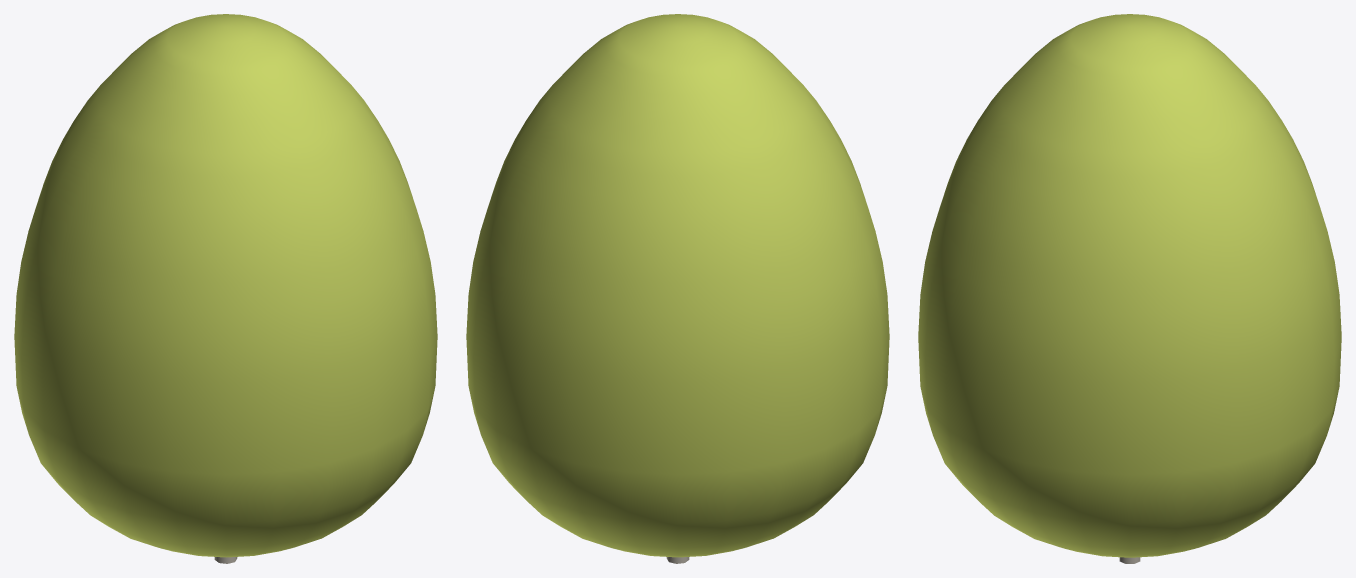
The model's file is AcerSaccharum.glb.
3 views of the same model, side by side, from view 1: azimuth 30°, elevation 25°; view 2: azimuth 150°, elevation 25°; view 3: azimuth 270°, elevation 25° (orthographic).
Visible parts, largest first — view 1: Sugar_Maple__Schematic_LOD3; view 2: Sugar_Maple__Schematic_LOD3; view 3: Sugar_Maple__Schematic_LOD3.
Boxes of the visible parts, x1,y1,x2,y2 form: Sugar_Maple__Schematic_LOD3: [14, 14, 437, 563]; Sugar_Maple__Schematic_LOD3: [466, 14, 889, 563]; Sugar_Maple__Schematic_LOD3: [918, 14, 1341, 563].
Size of the model in its own units: 11.18 by 15.51 by 11.18.
